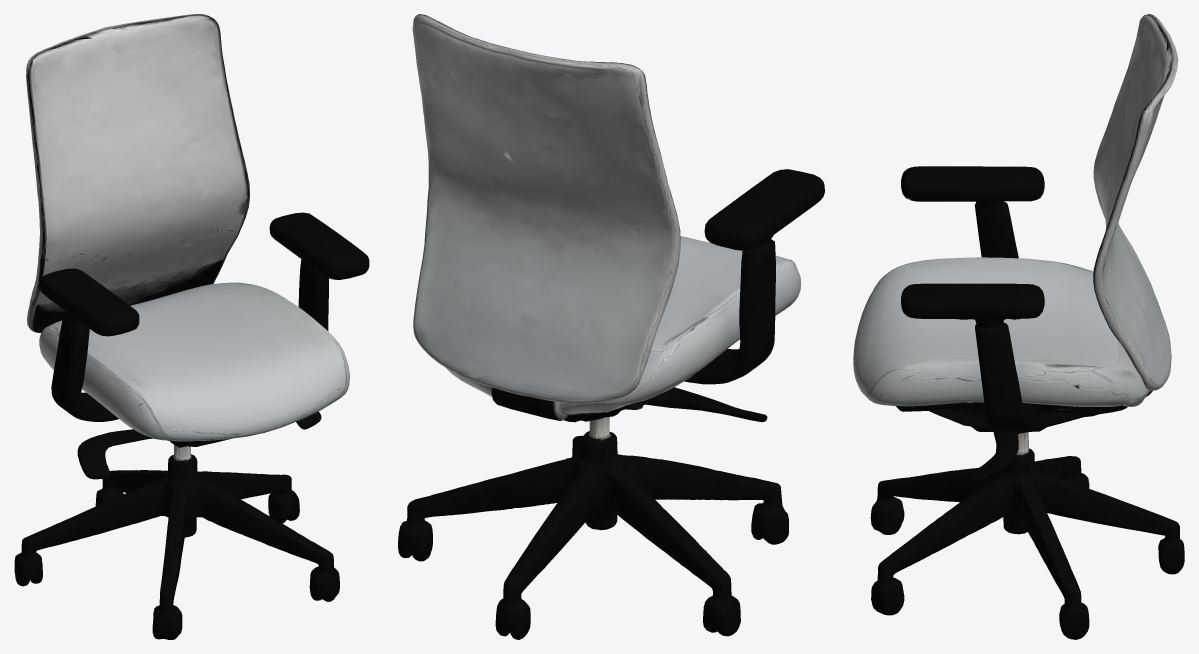
Rendered from source.glb.
3 views of the same model, side by side, from view 1: azimuth 30°, elevation 25°; view 2: azimuth 150°, elevation 25°; view 3: azimuth 270°, elevation 25° (orthographic). The views are drawn at different scales.
Bounding box in the file's own units: 1.17 × 1.98 × 1.16.
1 material, 1 textured.
